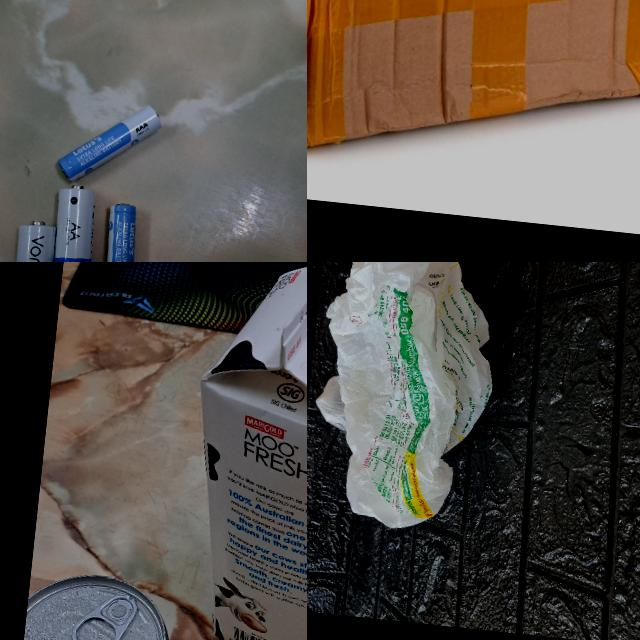aba de lata: (71, 589, 138, 640)
bateria: (56, 96, 164, 192), (46, 182, 100, 262), (98, 202, 143, 262), (4, 216, 60, 262)
caixinha: (169, 262, 307, 640)
lata: (7, 568, 201, 640)
papelão: (307, 0, 640, 193)
sacola plástica: (307, 262, 508, 538)
